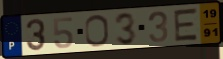3: (113, 11, 138, 47), (24, 17, 47, 52), (147, 10, 169, 44)
5: (52, 16, 75, 50)
E: (172, 7, 200, 43)
O: (84, 14, 111, 48)
